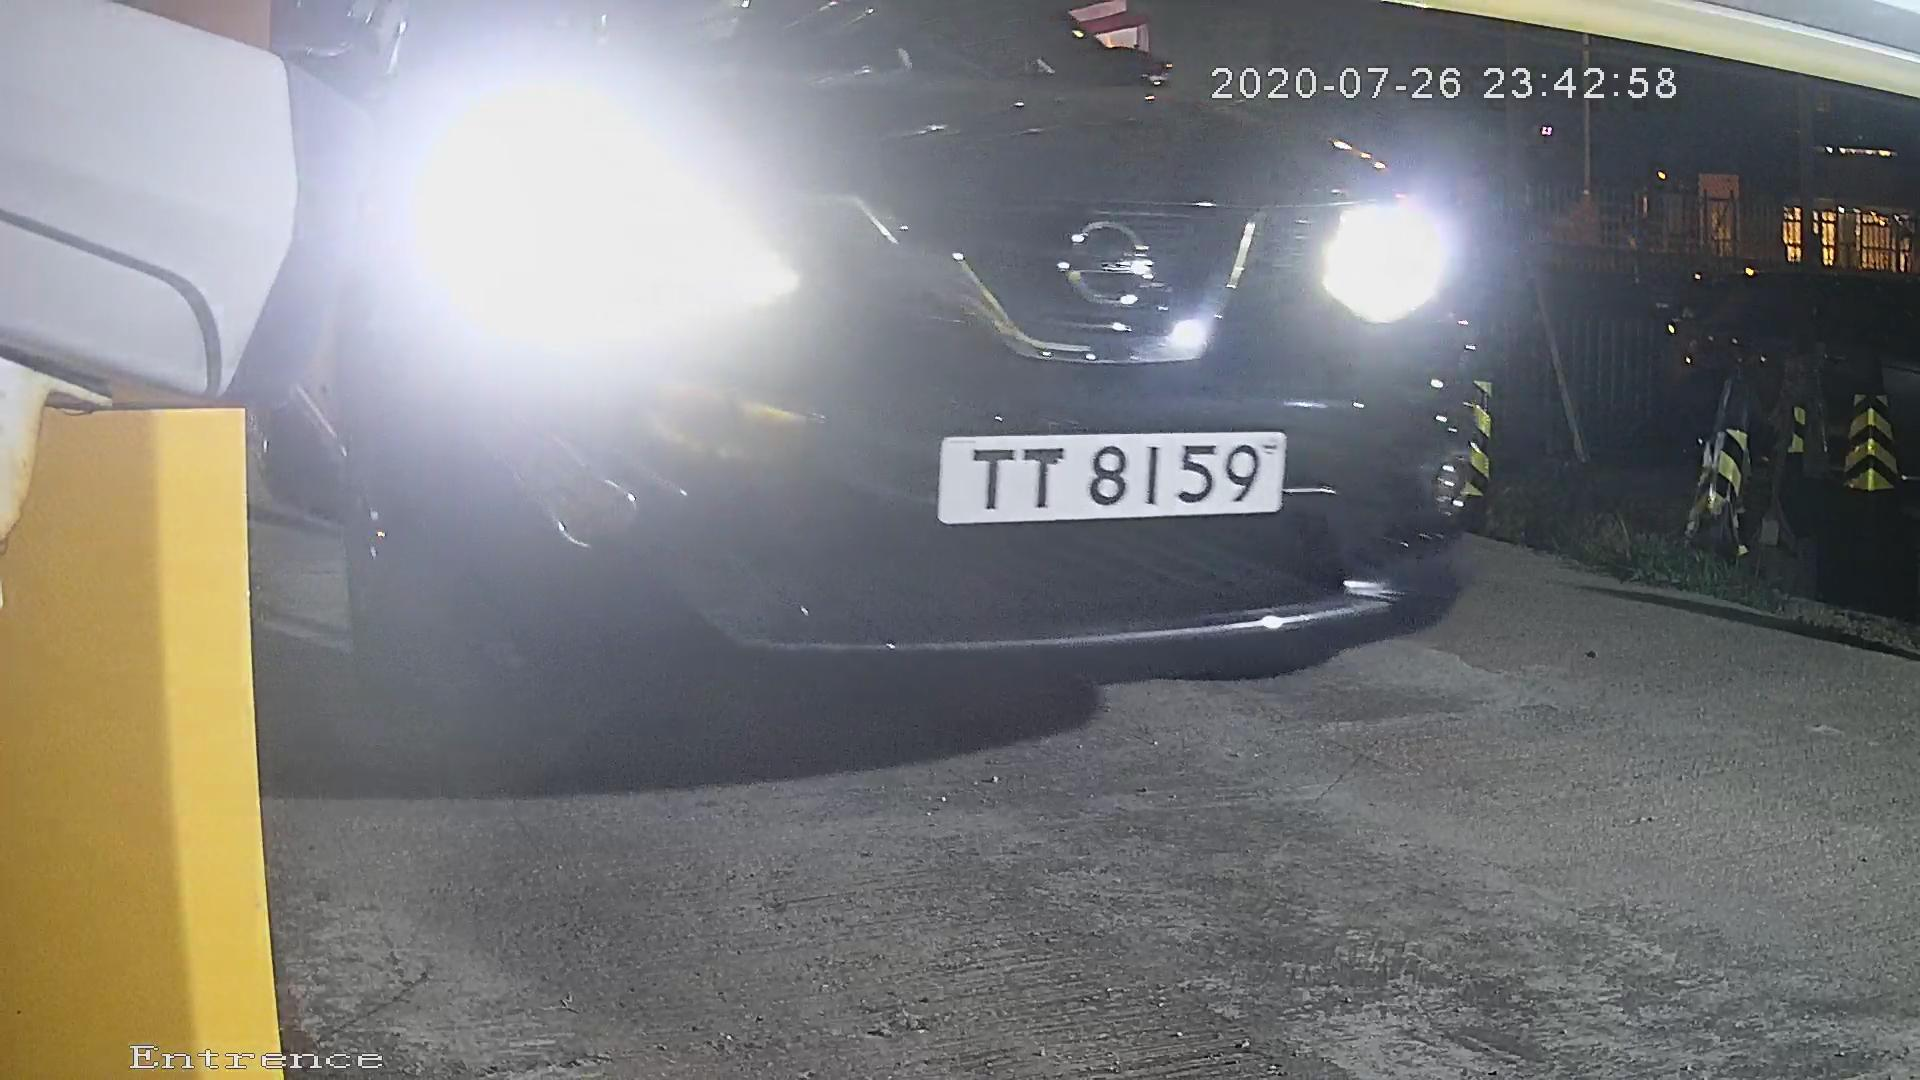Car: (52, 63, 1646, 767)
License Plate: (901, 410, 1312, 531)
